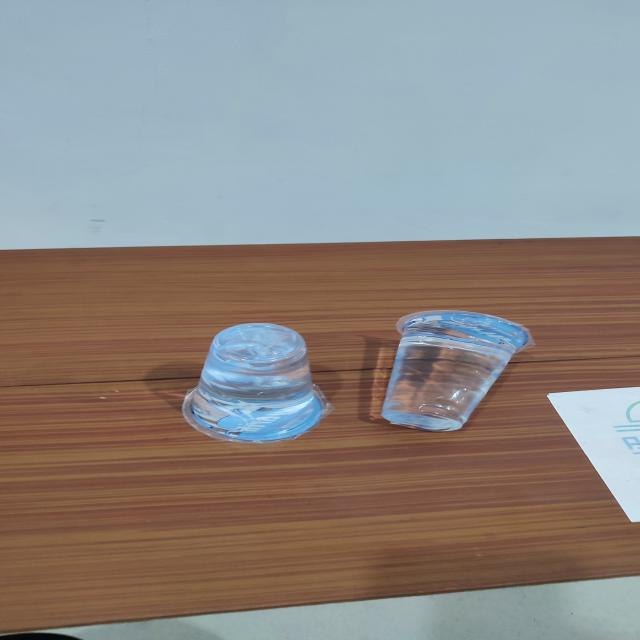air gelas: (361, 300, 533, 438), (181, 318, 338, 452)
